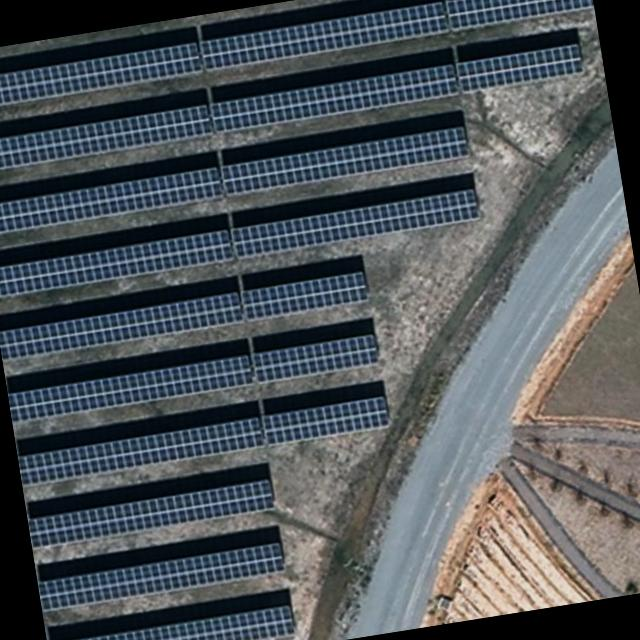solar: (228, 185, 484, 260), (18, 413, 266, 488), (28, 476, 278, 550), (38, 539, 288, 613), (210, 62, 460, 135), (198, 0, 451, 72), (8, 351, 257, 424), (220, 124, 472, 196), (0, 289, 246, 362), (0, 226, 237, 300), (0, 163, 226, 237), (0, 102, 217, 175), (0, 38, 206, 111), (48, 602, 299, 640), (261, 392, 394, 448), (239, 268, 372, 324), (249, 330, 384, 384), (454, 40, 586, 95), (445, 0, 594, 31)
